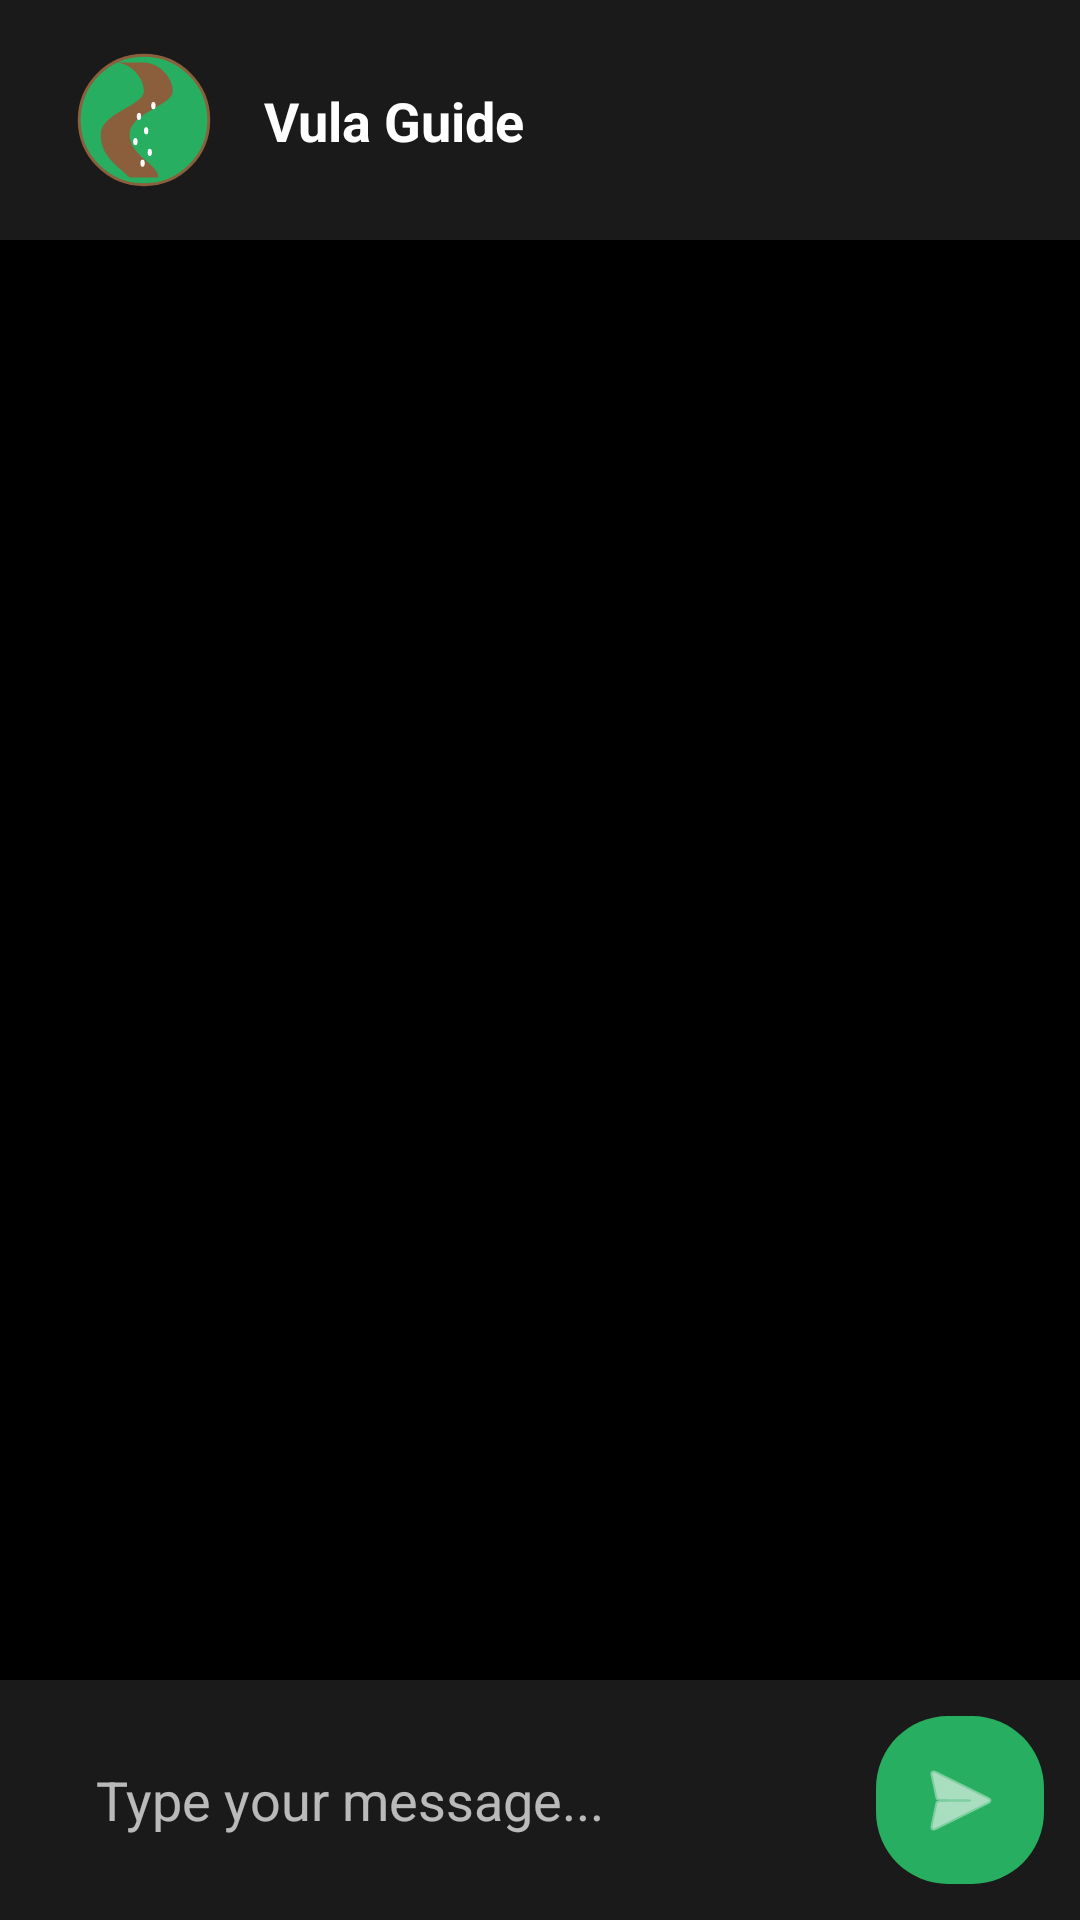

Icons on this 1080 x 1920 Android screen, each with its box as (x1, y1, x2, y2):
send: (876, 1716, 1044, 1884)
